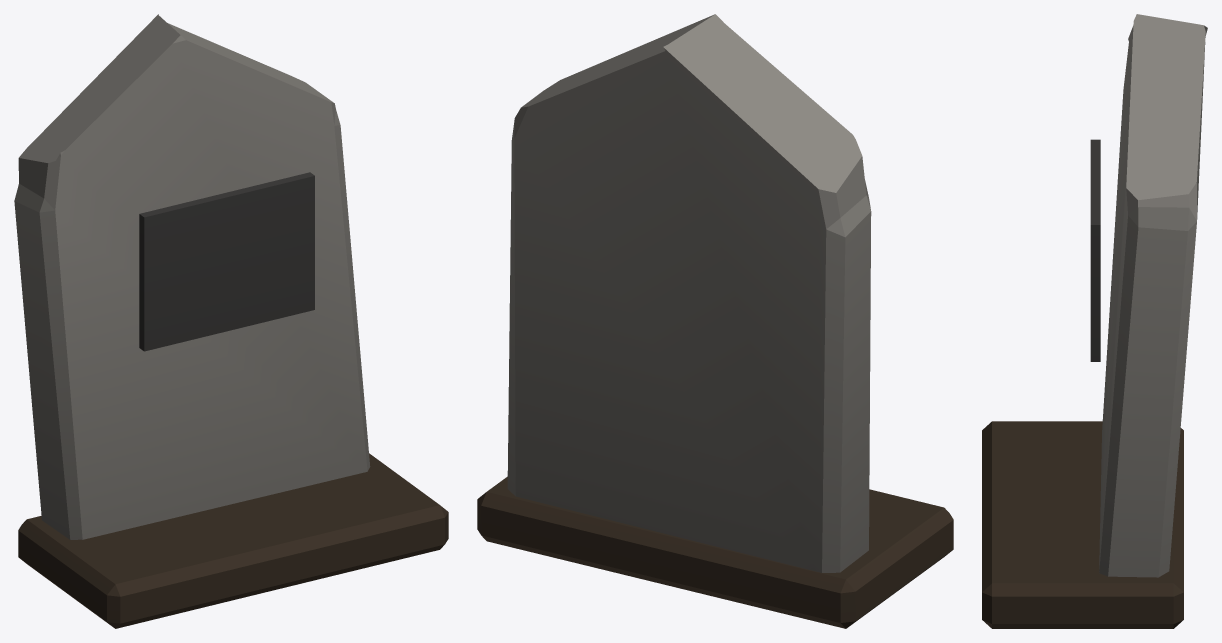
Rendered from gravestone_a.glb.
3 renders of one model, left to right at view 1: azimuth 30°, elevation 25°; view 2: azimuth 150°, elevation 25°; view 3: azimuth 270°, elevation 25°, orthographic. The views are drawn at different scales.
Parts seen in each view (by area): view 1: gravestone_a; view 2: gravestone_a; view 3: gravestone_a.
Part boxes in pixels (box(x1,y1,x2,y2)): gravestone_a: box(14, 14, 448, 628); gravestone_a: box(477, 14, 953, 628); gravestone_a: box(982, 14, 1207, 628).
Size of what is drawn, in the model's own units: 0.8 by 1.14 by 0.4477.
